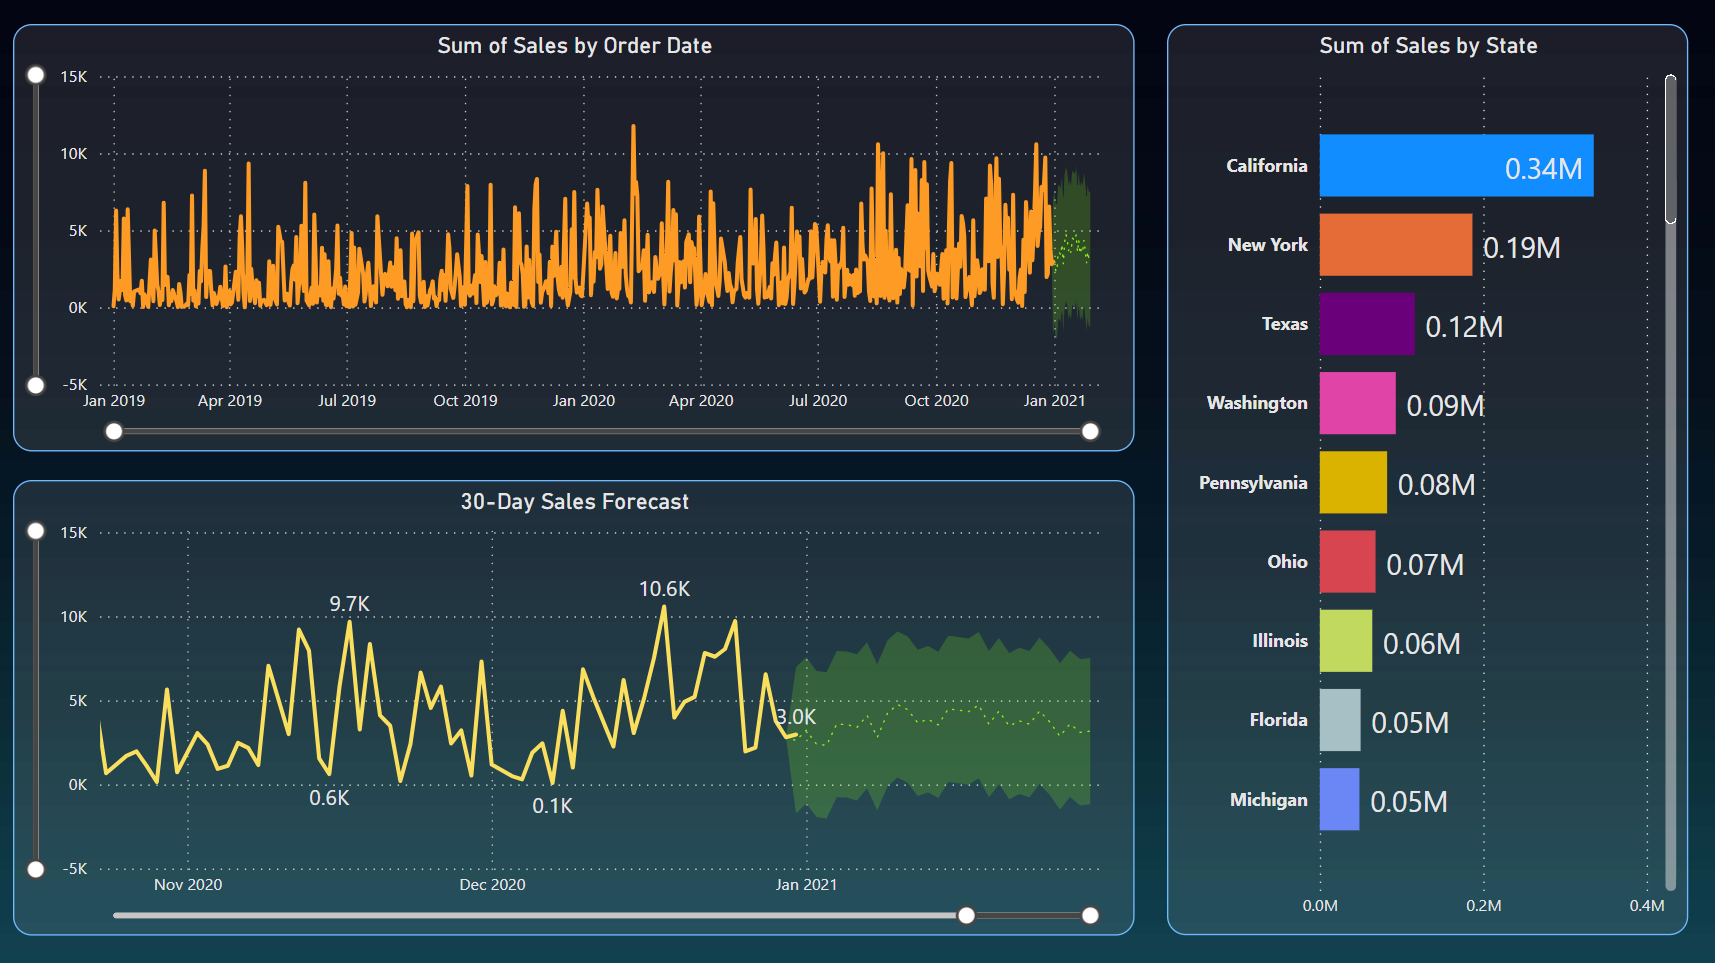

What the dashboard file says about the page in this screenshot:
{"tool":"powerbi","page":{"name":"Page 2","canvas":[1280,720],"ordinal":1},"visuals":[{"type":"lineChart","fields":{"Y":["Sum(SuperStore_Sales_Dataset.Sales)"],"Category":["SuperStore_Sales_Dataset.Order Date"]},"box":[9.8,19,836.7,318.8],"z":0},{"type":"lineChart","title":"30-Day Sales Forecast","fields":{"Y":["Sum(SuperStore_Sales_Dataset.Sales)"],"Category":["SuperStore_Sales_Dataset.Order Date"]},"box":[9.8,360,836.7,339.7],"z":1000},{"type":"barChart","fields":{"Y":["Sum(SuperStore_Sales_Dataset.Sales)"],"Category":["SuperStore_Sales_Dataset.State"]},"box":[871.1,19,388.9,680.1],"z":2000}]}

Visuals, with their boxes in screenshot pixels (x1, y1, x2, y2), scaled from the page's 1280x720 canvas onto the 1715x963 screenshot:
lineChart - Sum(SuperStore_Sales_Dataset.Sales) x SuperStore_Sales_Dataset.Order Date: detection(13, 25, 1134, 452)
"30-Day Sales Forecast" lineChart: detection(13, 481, 1134, 936)
barChart - Sum(SuperStore_Sales_Dataset.Sales) x SuperStore_Sales_Dataset.State: detection(1167, 25, 1688, 935)
